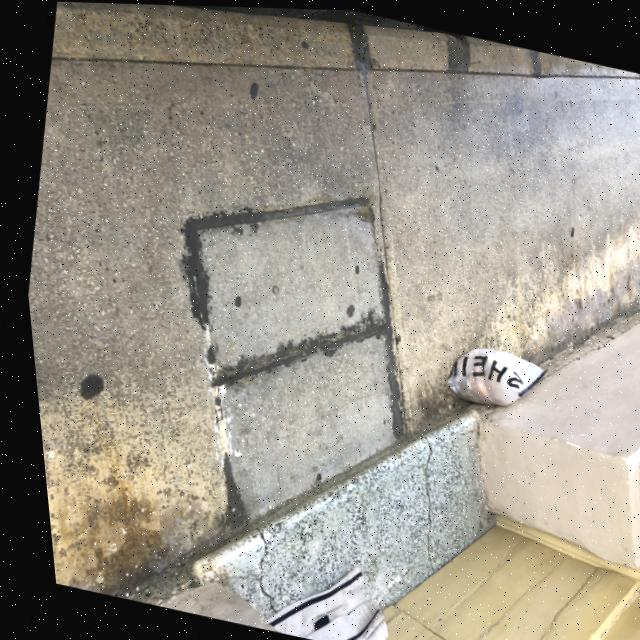Other: (244, 547, 390, 640), (430, 331, 547, 417)
